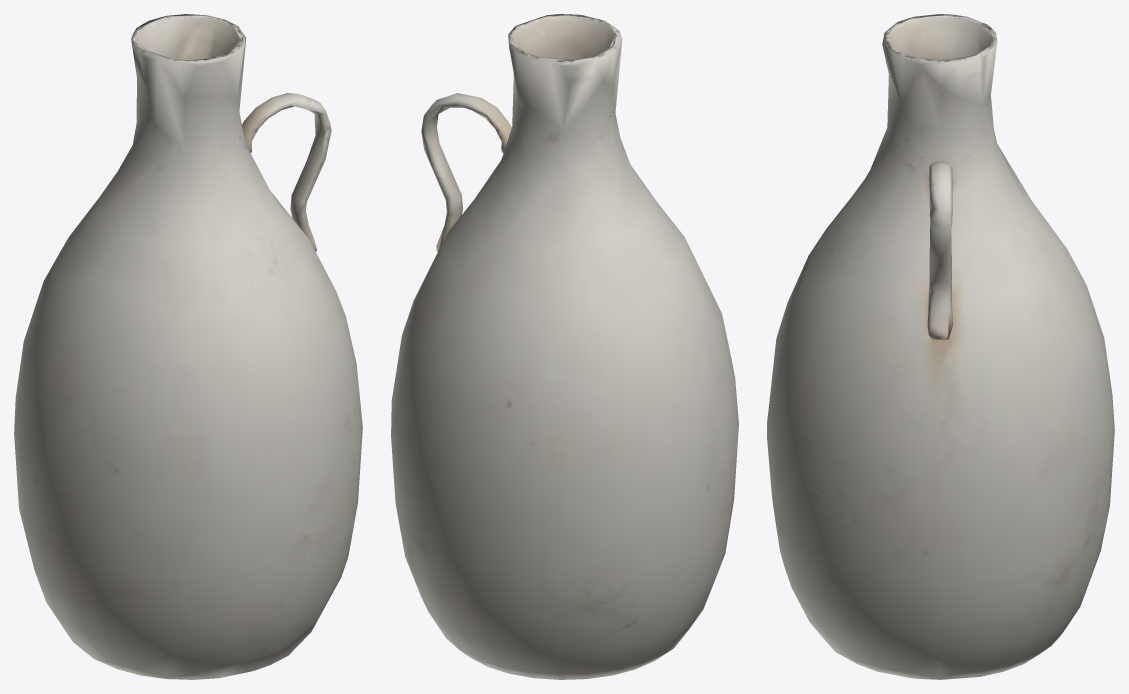
The model's file is ceramic_vase_04.glb.
3 views of the same model, side by side, from view 1: azimuth 30°, elevation 25°; view 2: azimuth 150°, elevation 25°; view 3: azimuth 270°, elevation 25° (orthographic).
Visible parts, largest first — view 1: ceramic_vase_04; view 2: ceramic_vase_04; view 3: ceramic_vase_04.
Part boxes in pixels (x1=…): ceramic_vase_04: x1=14, y1=14, x2=362, y2=679; ceramic_vase_04: x1=391, y1=14, x2=738, y2=679; ceramic_vase_04: x1=767, y1=14, x2=1114, y2=679.
Size of the model in its own units: 0.1802 by 0.3413 by 0.1805.
1 material, 1 textured.
